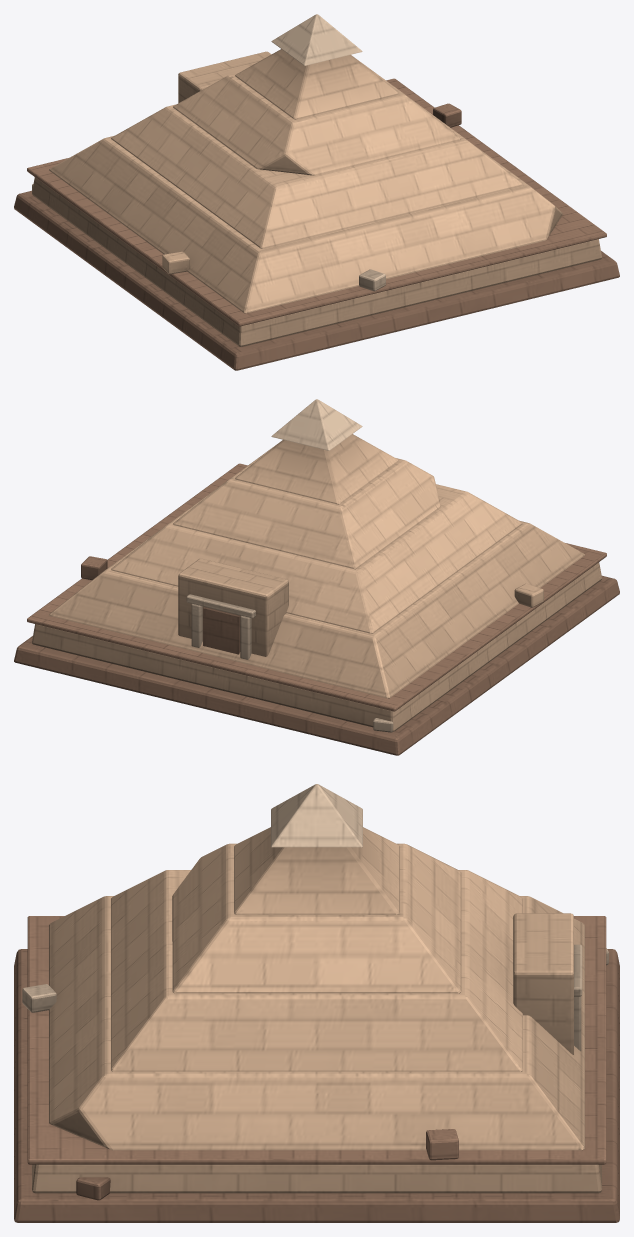
Rendered from small_pyramid.glb.
3 renders of one model, top to bottom at view 1: azimuth 30°, elevation 25°; view 2: azimuth 150°, elevation 25°; view 3: azimuth 270°, elevation 25°, orthographic. The views are drawn at different scales.
Parts seen in each view (by area): view 1: small_pyramid_limestone_tomb, small_pyramid_limestone_socle, small_pyramid_limestone_cap; view 2: small_pyramid_limestone_tomb, small_pyramid_limestone_socle, small_pyramid_limestone_cap; view 3: small_pyramid_limestone_tomb, small_pyramid_limestone_socle, small_pyramid_limestone_cap.
Boxes of the visible parts, <box> form: small_pyramid_limestone_tomb: <box>32,49,601,346</box>; small_pyramid_limestone_socle: <box>14,78,619,370</box>; small_pyramid_limestone_cap: <box>32,14,385,291</box>; small_pyramid_limestone_tomb: <box>32,434,601,731</box>; small_pyramid_limestone_socle: <box>14,463,619,755</box>; small_pyramid_limestone_cap: <box>186,399,393,732</box>; small_pyramid_limestone_tomb: <box>32,827,601,1193</box>; small_pyramid_limestone_socle: <box>14,916,619,1222</box>; small_pyramid_limestone_cap: <box>22,784,608,1051</box>.
Size of the model in its own units: 2.99 by 1.7 by 2.99.
Materials: 3 (3 with a texture image).
